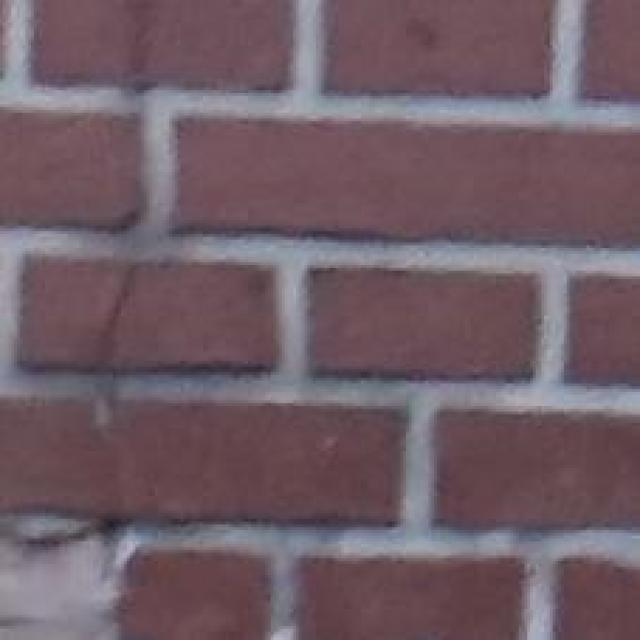Crack: (0, 8, 244, 640)
